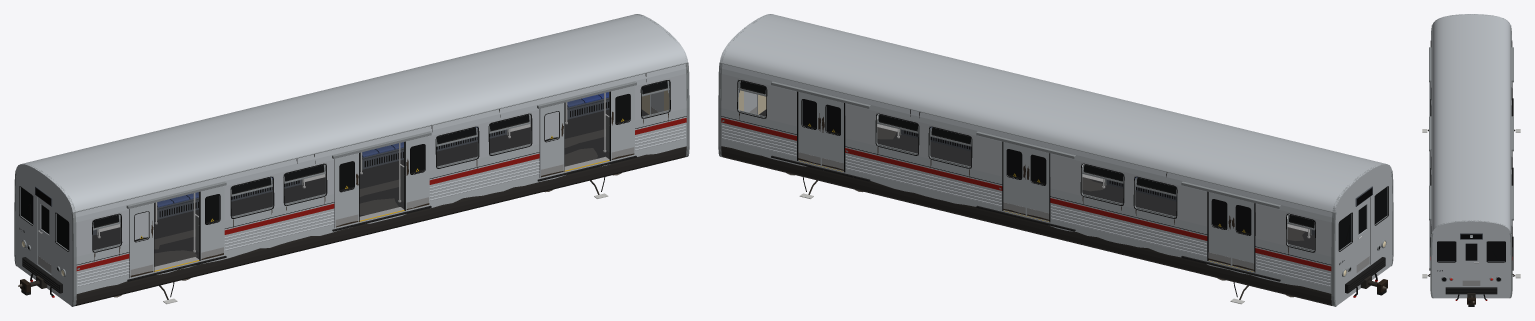
The model's file is metro_car_37.glb.
3 views of the same model, side by side, from view 1: azimuth 30°, elevation 25°; view 2: azimuth 150°, elevation 25°; view 3: azimuth 270°, elevation 25° (orthographic). The views are drawn at different scales.
Parts seen in each view (by area): view 1: dach, bremsstaub-1, boden, oben-1, unten-1_2, unten-1_1, schuerze-1, unten-1_0, unten-1_3, stirn_m_wand9, rinne-1, lauf_mitte (+23 smaller); view 2: dach, bremsstaub1, oben1, unten1_2, unten1_1, boden, schuerze1, unten1_0, unten1_3, stirn_m_wand9, pfeiler1_2_2, pfeiler1_1_2 (+23 smaller); view 3: dach, stirn_p_wand9, stirn_p_wand1, stirn_p_wand2, stirn_p_wand0, stirn_p_tuer-0.360.0, rinne-1, rinne1, stirn_p_glas0.56, stirn_p_glas-1.26, stirn_p_ramm, stirn_p_tuerglas (+21 smaller).
Boxes of the visible parts, bbox=[...] form: dach: bbox=[16, 14, 687, 212]; bremsstaub-1: bbox=[75, 146, 686, 305]; boden: bbox=[93, 109, 648, 259]; oben-1: bbox=[75, 64, 685, 220]; unten-1_2: bbox=[429, 144, 539, 204]; unten-1_1: bbox=[224, 194, 334, 254]; schuerze-1: bbox=[76, 142, 686, 303]; unten-1_0: bbox=[76, 244, 128, 290]; unten-1_3: bbox=[635, 108, 686, 154]; stirn_m_wand9: bbox=[16, 164, 76, 222]; rinne-1: bbox=[73, 62, 688, 212]; lauf_mitte: bbox=[154, 129, 605, 244]; dach: bbox=[720, 14, 1391, 212]; bremsstaub1: bbox=[721, 146, 1332, 305]; oben1: bbox=[722, 64, 1332, 220]; unten1_2: bbox=[845, 138, 1002, 210]; unten1_1: bbox=[1050, 188, 1207, 260]; boden: bbox=[759, 109, 1314, 250]; schuerze1: bbox=[721, 142, 1331, 303]; unten1_0: bbox=[1255, 238, 1331, 290]; unten1_3: bbox=[721, 108, 796, 160]; stirn_m_wand9: bbox=[1331, 164, 1391, 222]; pfeiler1_2_2: bbox=[845, 106, 877, 145]; pfeiler1_1_2: bbox=[1050, 156, 1082, 195]; dach: bbox=[1432, 14, 1510, 233]; stirn_p_wand9: bbox=[1432, 220, 1510, 239]; stirn_p_wand1: bbox=[1432, 261, 1461, 286]; stirn_p_wand2: bbox=[1481, 261, 1510, 286]; stirn_p_wand0: bbox=[1432, 286, 1510, 298]; stirn_p_tuer-0.360.0: bbox=[1461, 260, 1481, 286]; rinne-1: bbox=[1431, 25, 1432, 232]; rinne1: bbox=[1510, 25, 1511, 232]; stirn_p_glas0.56: bbox=[1487, 241, 1505, 261]; stirn_p_glas-1.26: bbox=[1437, 241, 1455, 261]; stirn_p_ramm: bbox=[1445, 287, 1497, 294]; stirn_p_tuerglas: bbox=[1465, 243, 1477, 260].
Size of the model in its own units: 19.44 by 3.52 by 3.6.
